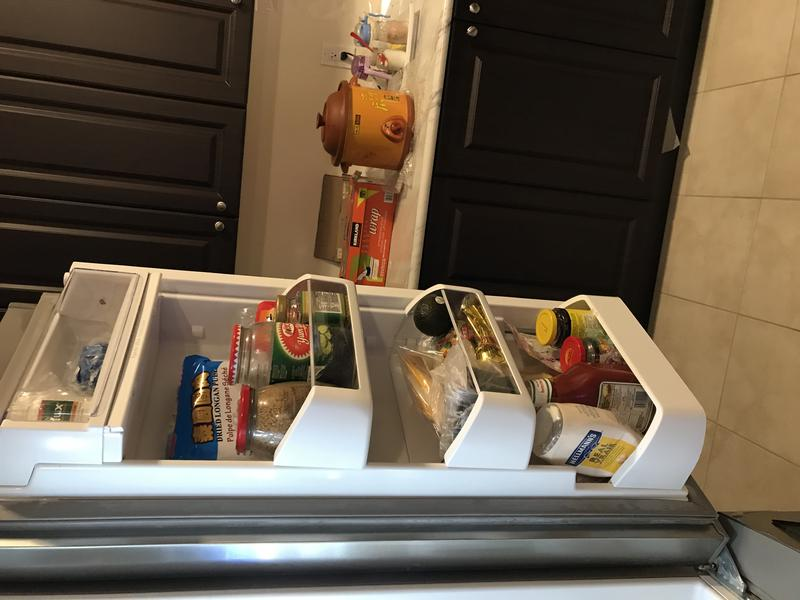avacado: (407, 284, 471, 340)
